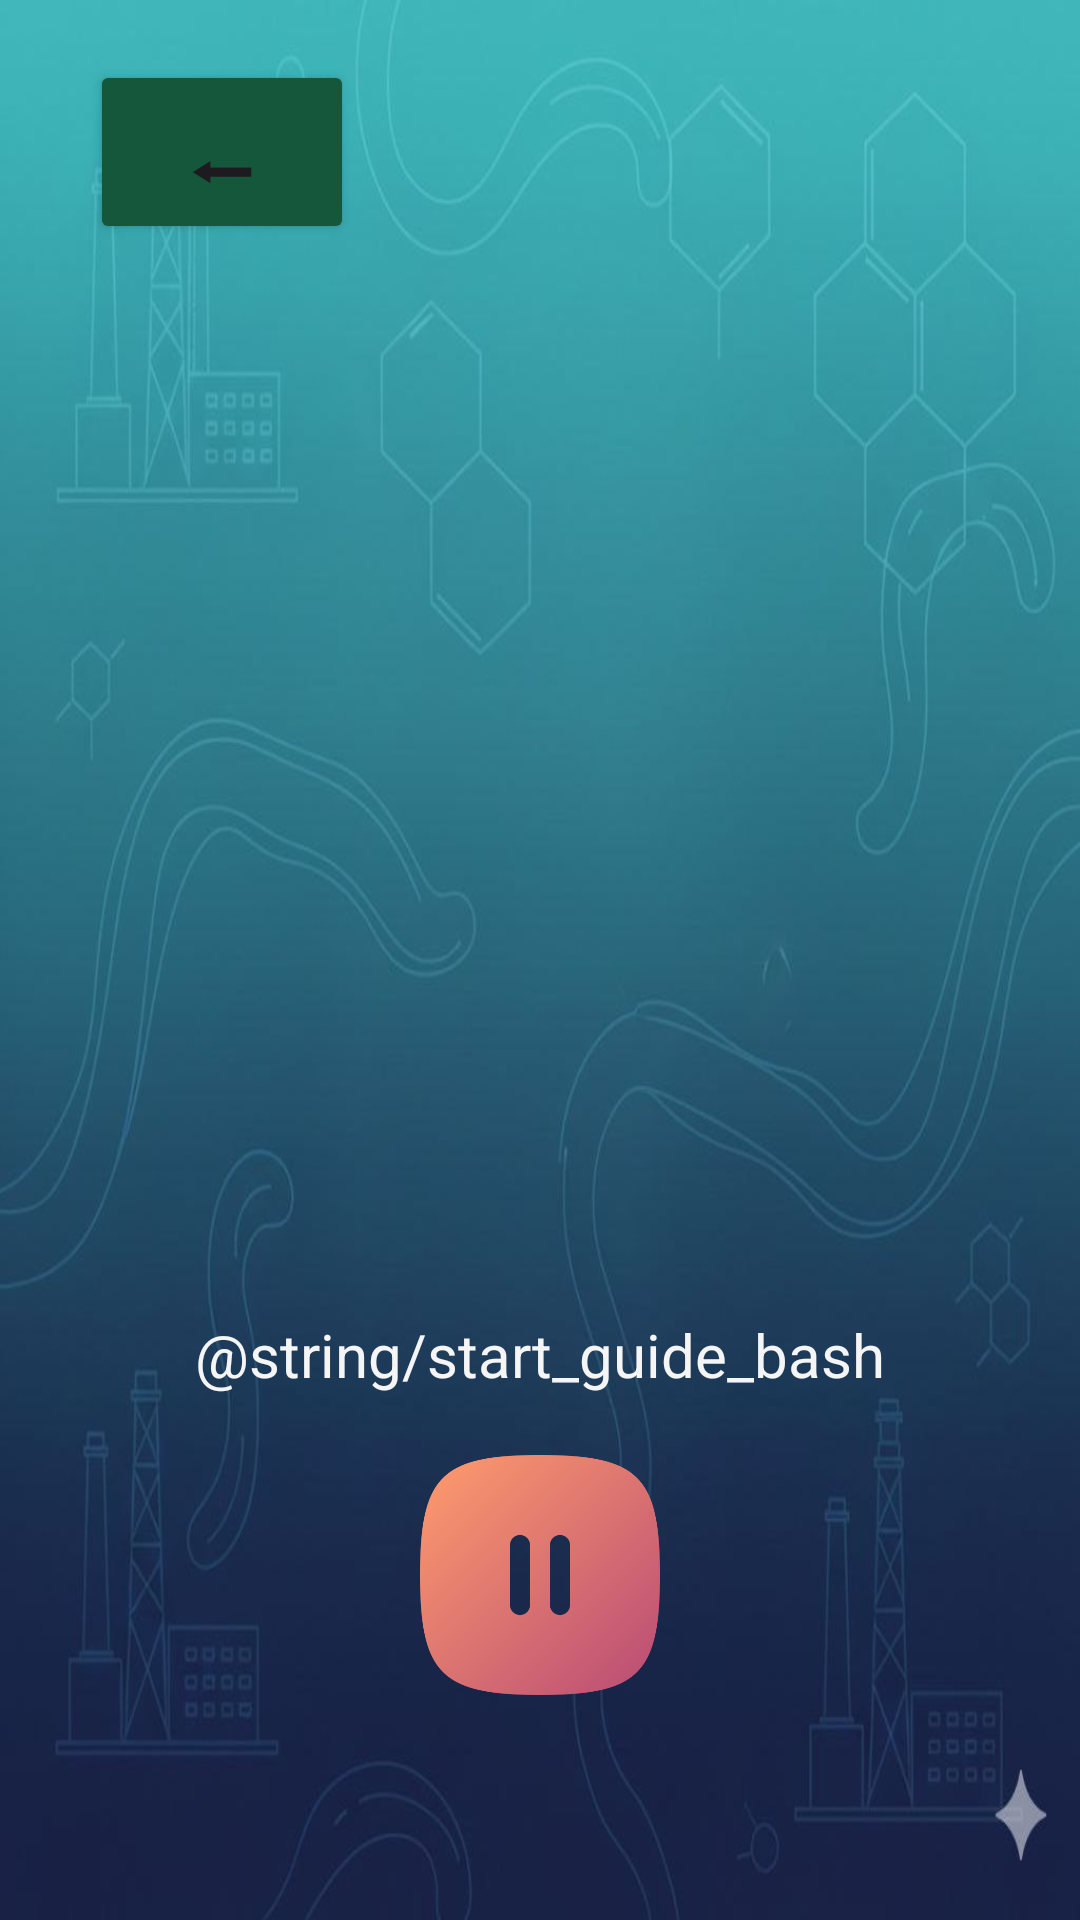

Icon bounding boxes for this 1080×1920 phone screenshot, format (x1, y1, x2, y2):
pausebtn: (420, 1455, 660, 1695)
